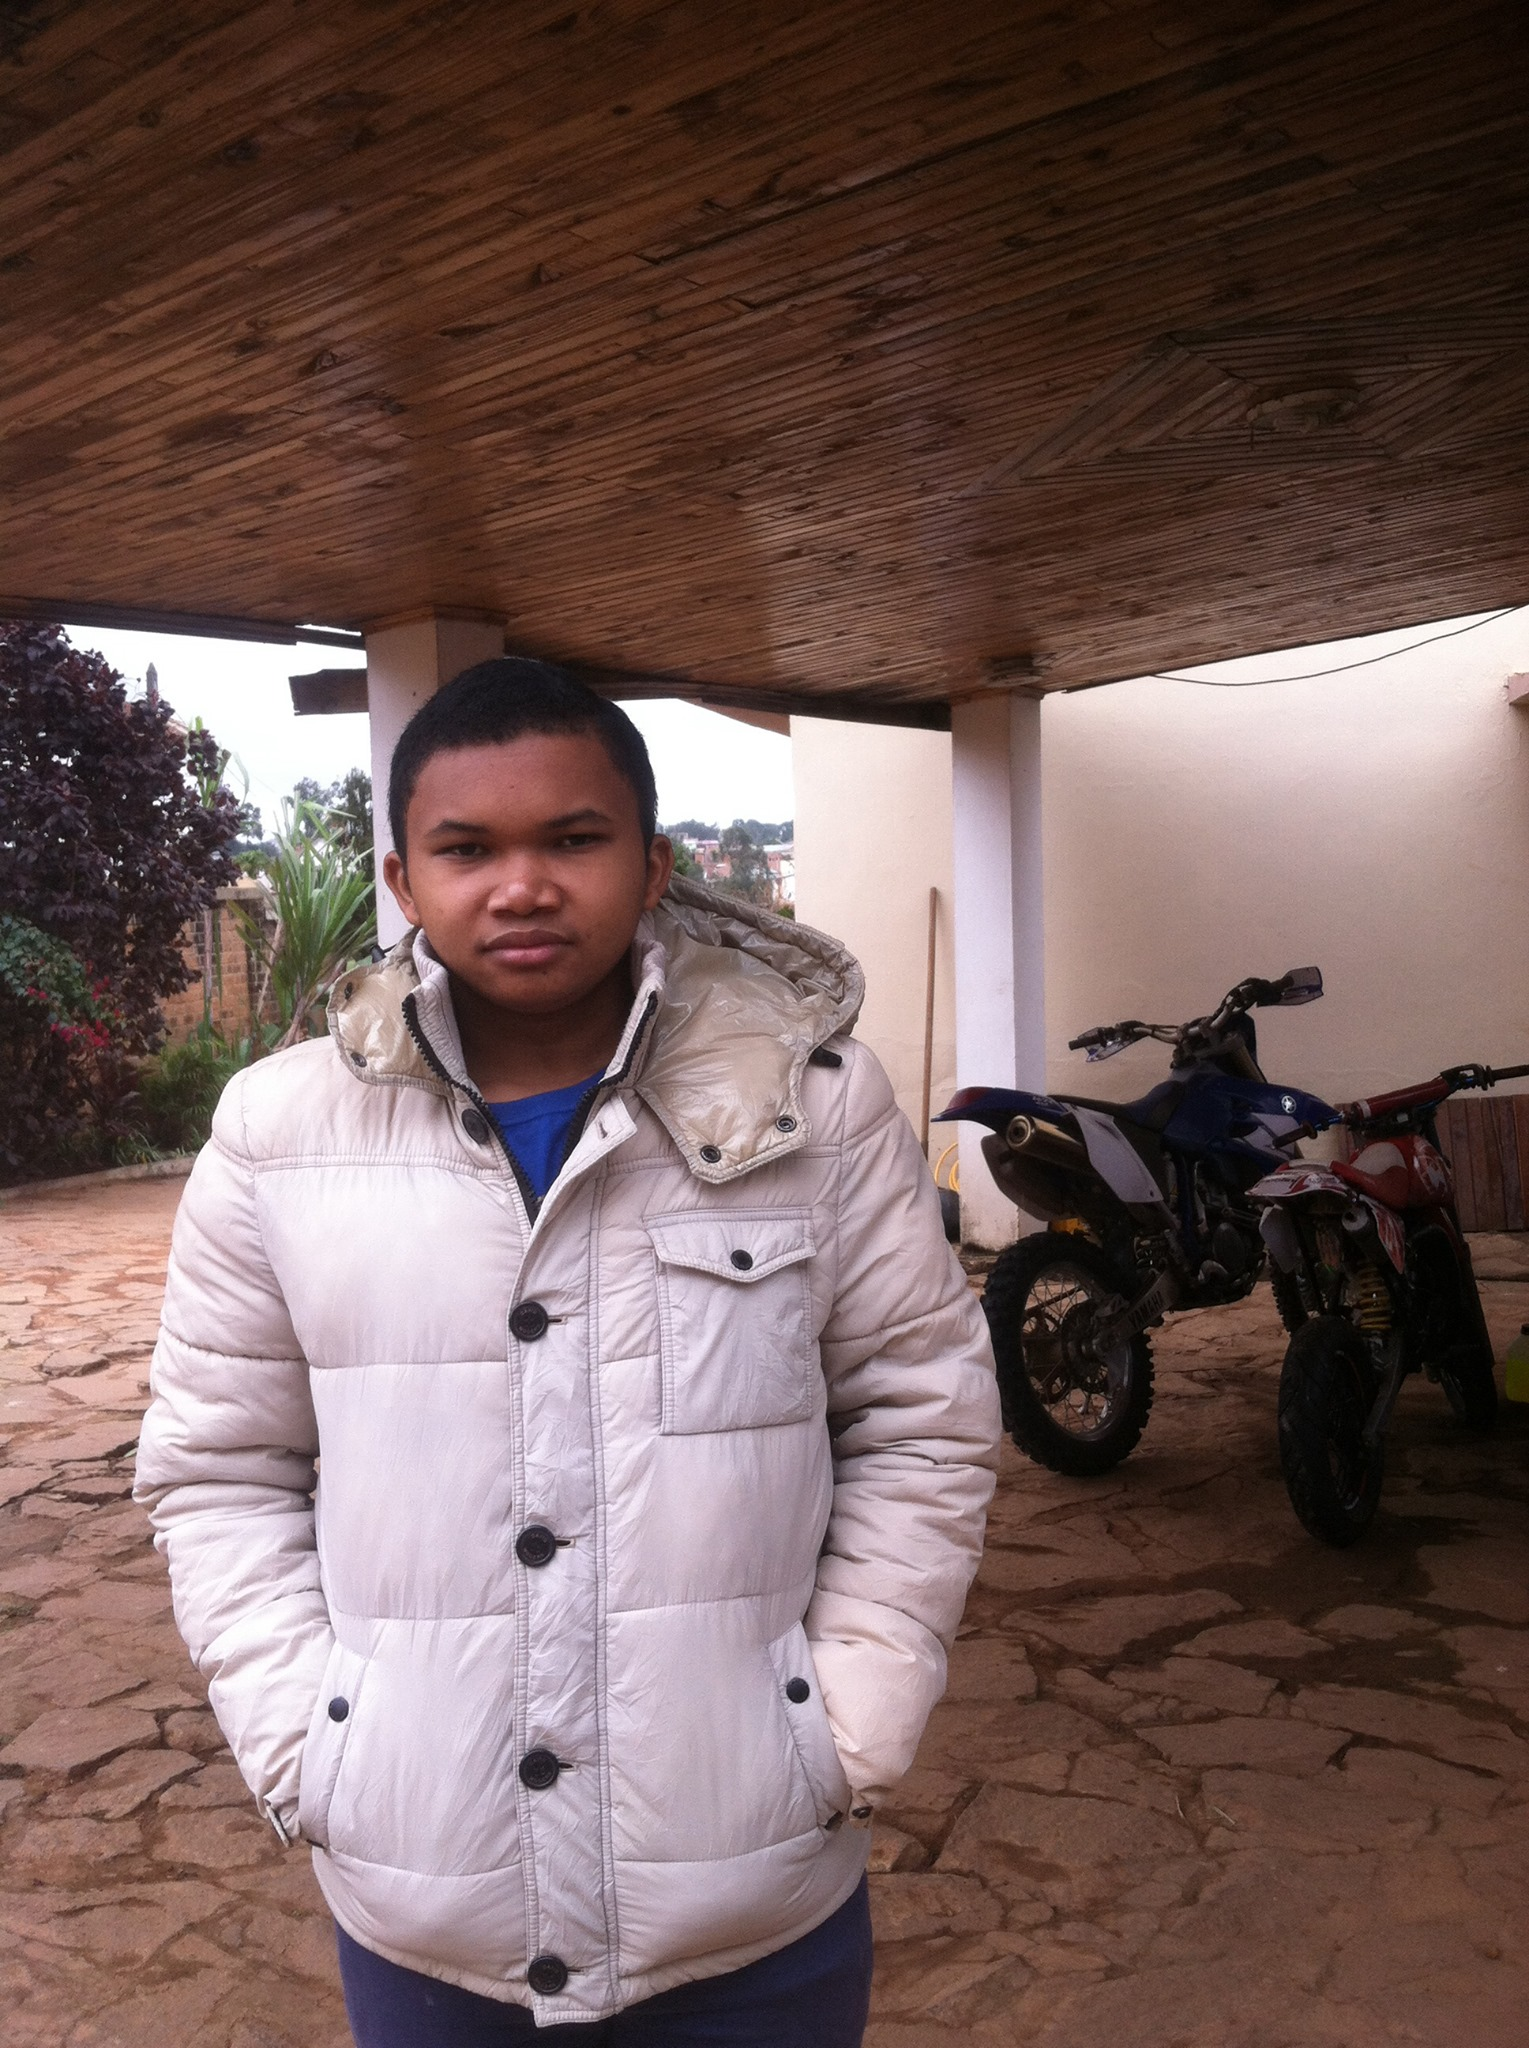BOY: (359, 645, 687, 1023)
